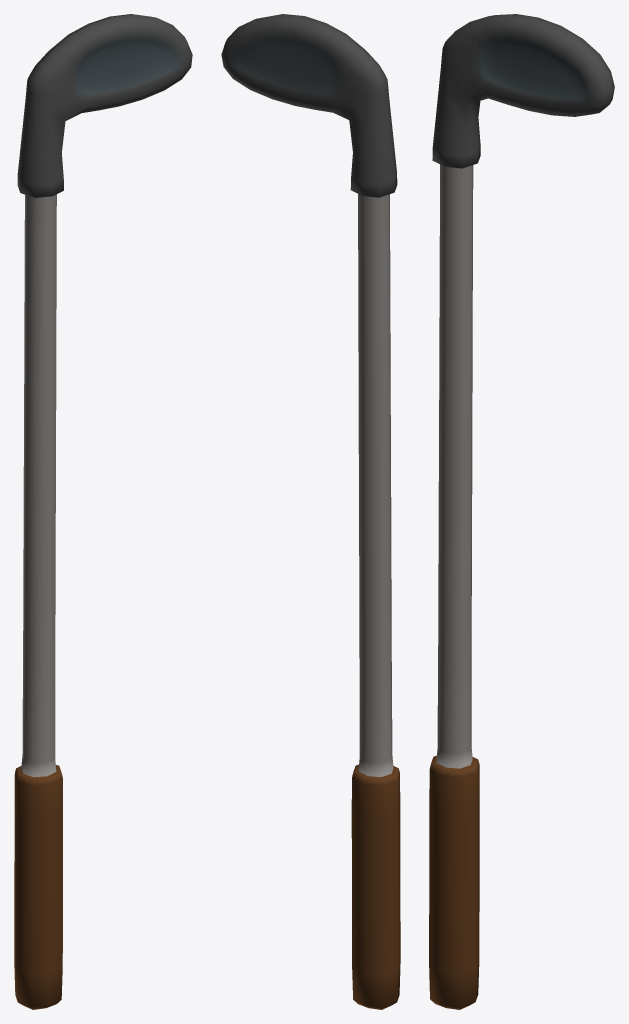
The model's file is SM_Golfschlaeger.fbx.
The picture shows the model from 3 angles, left to right: view 1: azimuth 30°, elevation 25°; view 2: azimuth 150°, elevation 25°; view 3: azimuth 330°, elevation 25°; orthographic projection. The views are drawn at different scales.
Visible parts, largest first — view 1: Golfschlaeger.001; view 2: Golfschlaeger.001; view 3: Golfschlaeger.001.
Boxes of the visible parts, <box> form: Golfschlaeger.001: <box>14,14,192,1009</box>; Golfschlaeger.001: <box>221,14,400,1009</box>; Golfschlaeger.001: <box>429,14,614,1009</box>.
Bounding box in the file's own units: 30.45 × 162 × 7.13.
